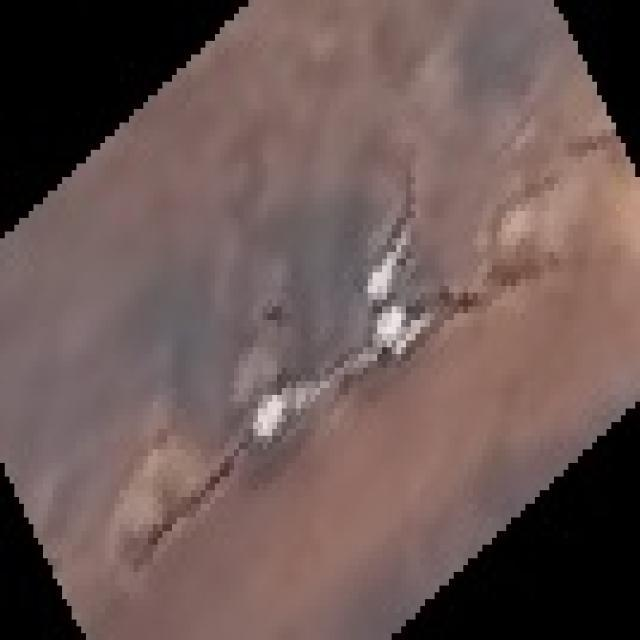crack: (130, 410, 269, 560)
